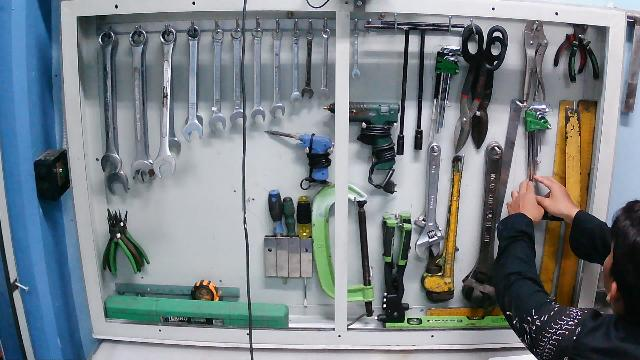kunci_l_bintang: (521, 100, 555, 204)
